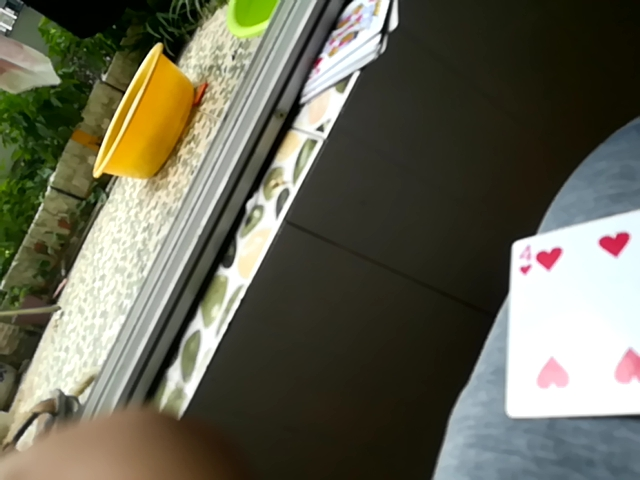hx 4: (498, 199, 638, 424)
